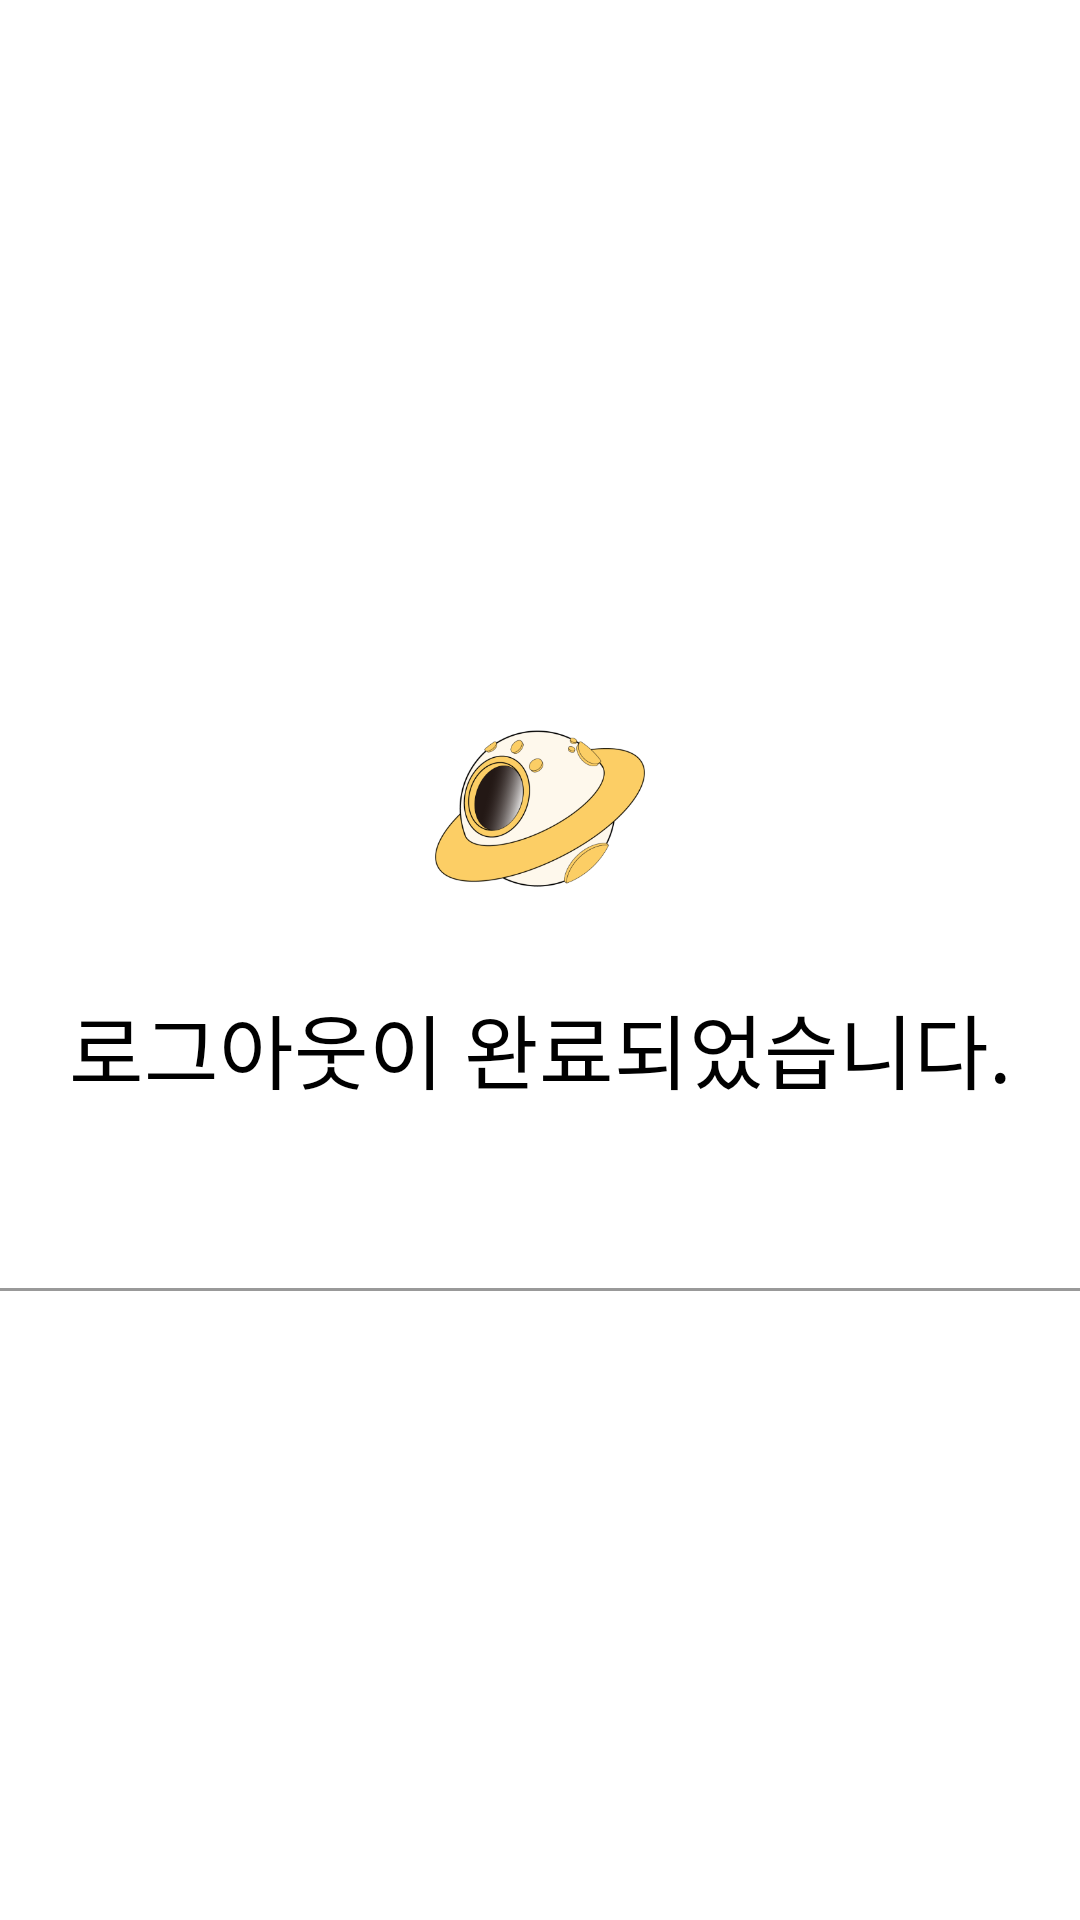

Locate icon controls on the screen. Image size 1080 x 1920, boxes as (x1, y1, x2, y2).
planet: (435, 730, 645, 887)
